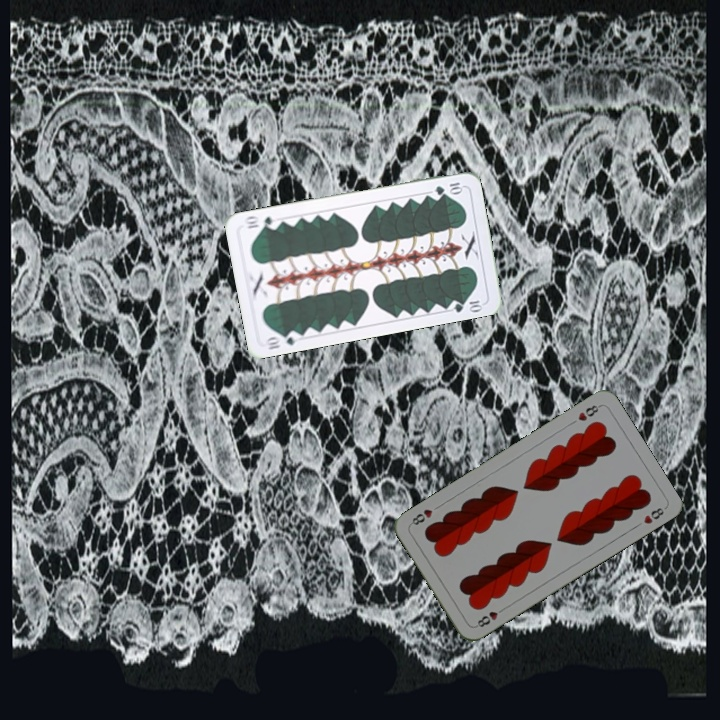G10: (262, 327, 302, 352), (431, 178, 465, 197)
H8: (471, 603, 508, 630), (574, 401, 603, 424)
